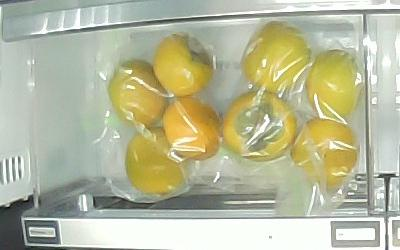persimmon_vinyl: (221, 92, 298, 161), (244, 23, 311, 94), (293, 118, 357, 190), (125, 126, 186, 197), (109, 60, 170, 126), (305, 50, 360, 121), (153, 33, 214, 96), (163, 97, 222, 160)
